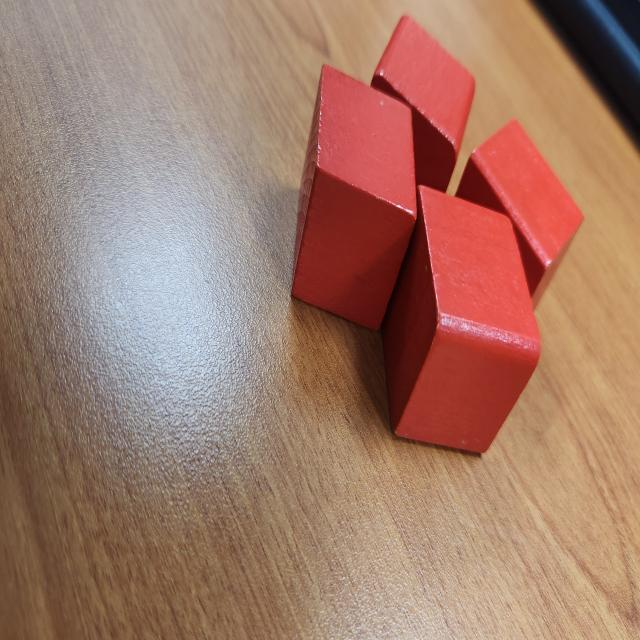red: (384, 184, 542, 454), (290, 64, 419, 334), (453, 115, 585, 316), (369, 14, 477, 197)
